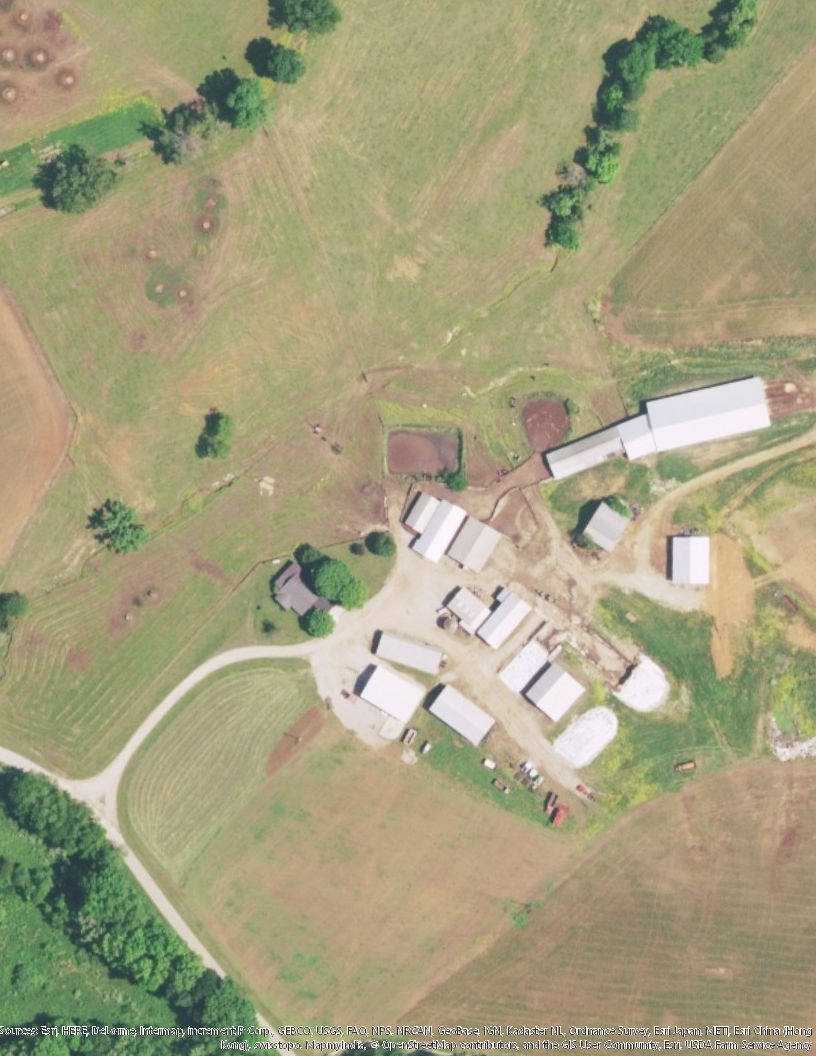cafo: (545, 371, 779, 469), (400, 486, 509, 577), (445, 578, 539, 647), (354, 663, 431, 731), (426, 681, 502, 747), (352, 628, 450, 678), (661, 527, 726, 595), (521, 655, 587, 721)
